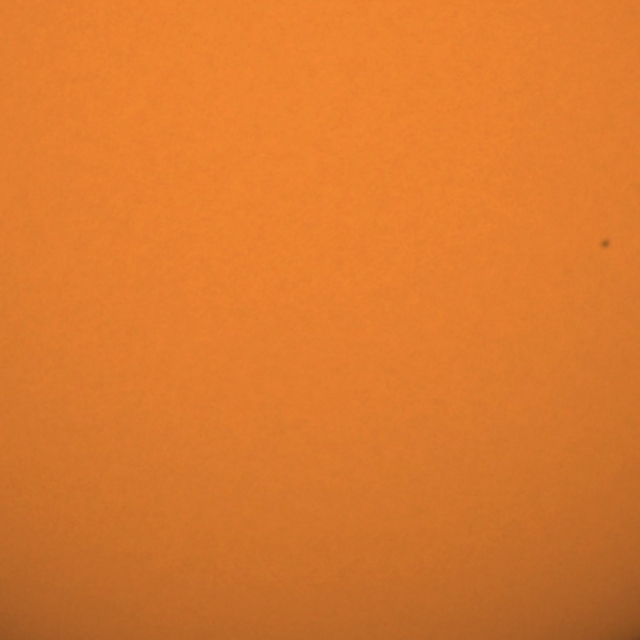sunspot: (598, 237, 612, 252)
